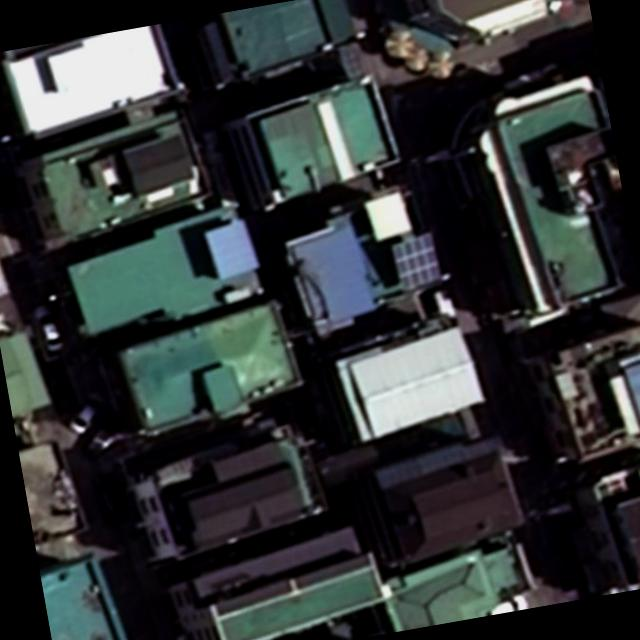solar: (388, 231, 438, 290)
